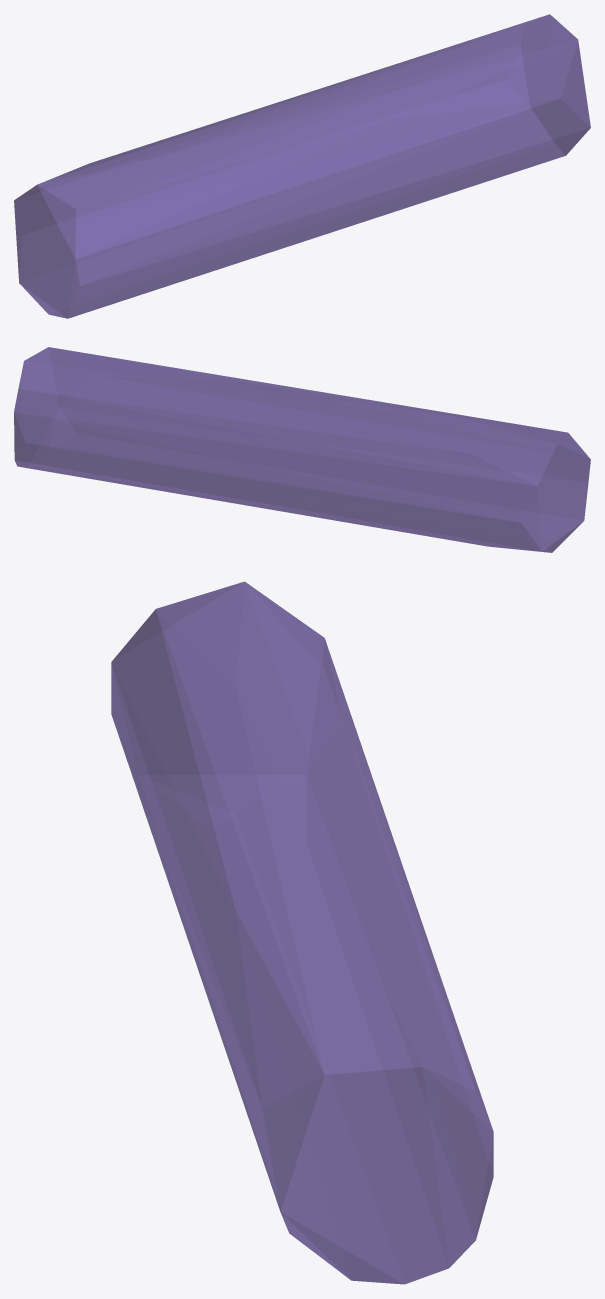
3 views of the same model, one above another, from view 1: azimuth 30°, elevation 25°; view 2: azimuth 150°, elevation 25°; view 3: azimuth 270°, elevation 25° (orthographic). The views are drawn at different scales.
Visible parts, largest first — view 1: Shape_IndexedFaceSet.012_Shape_IndexedFaceSet.4854; view 2: Shape_IndexedFaceSet.012_Shape_IndexedFaceSet.4854; view 3: Shape_IndexedFaceSet.012_Shape_IndexedFaceSet.4854.
Boxes of the visible parts, x1,y1,x2,y2 form: Shape_IndexedFaceSet.012_Shape_IndexedFaceSet.4854: (14, 14, 590, 318); Shape_IndexedFaceSet.012_Shape_IndexedFaceSet.4854: (14, 347, 590, 552); Shape_IndexedFaceSet.012_Shape_IndexedFaceSet.4854: (111, 581, 493, 1284).
Bounding box in the file's own units: 0.1843 × 0.0406 × 0.0624.
